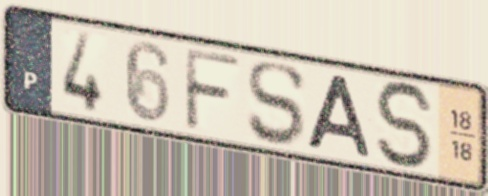4: (58, 27, 109, 117)
6: (123, 38, 173, 126)
A: (304, 71, 376, 161)
F: (181, 44, 243, 136)
S: (372, 78, 438, 173), (245, 60, 309, 149)
